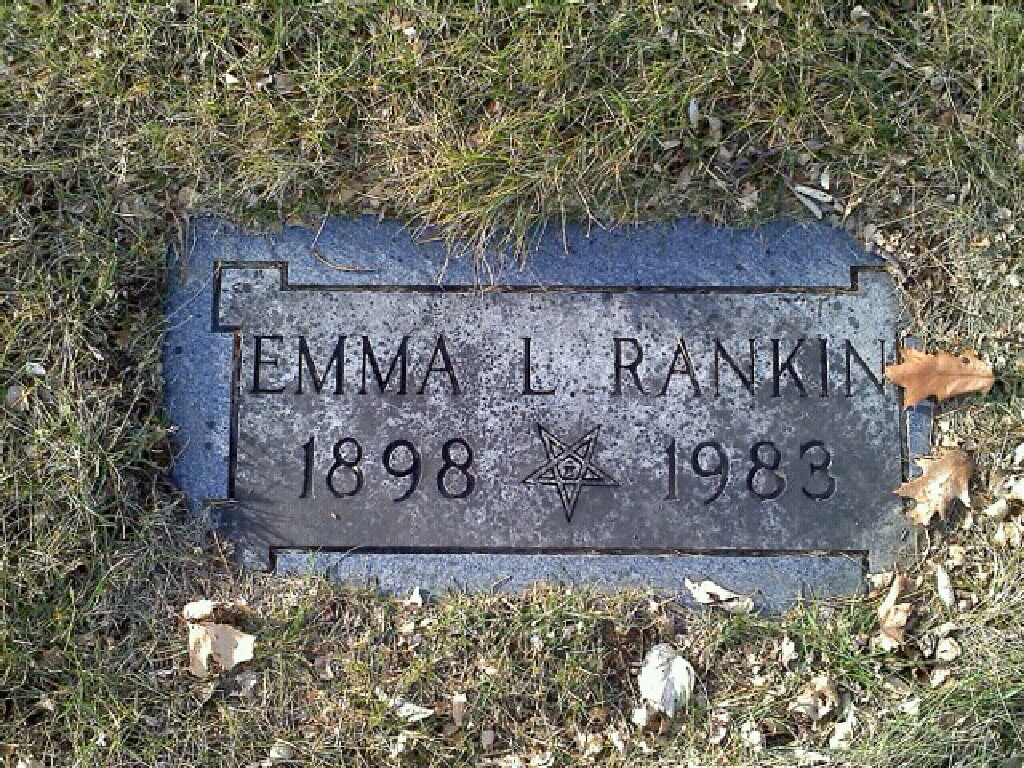flat: (95, 161, 985, 630)
